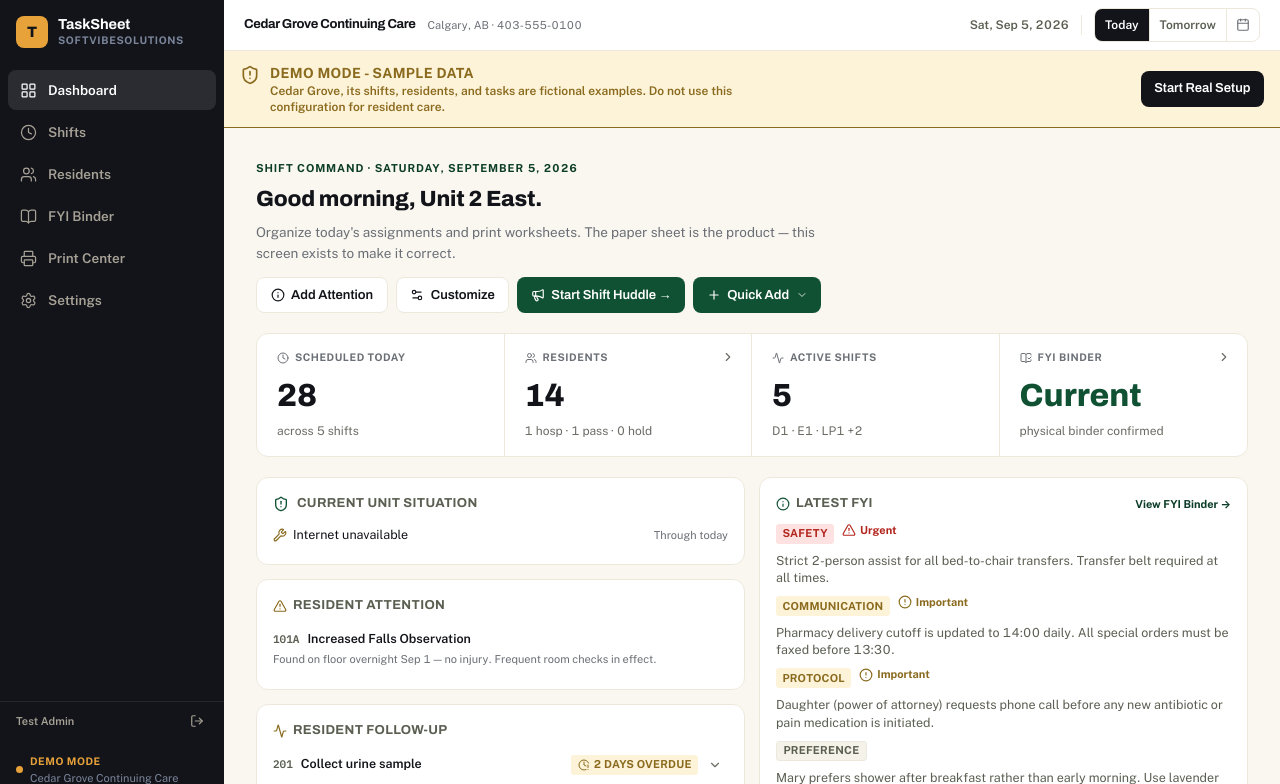
Test case: sidebar parent navigation › returns from a shift workspace to the Shifts list when Shifts is clicked again
Click the button "Shifts".
click(112, 132)  # box [8, 112, 216, 152]
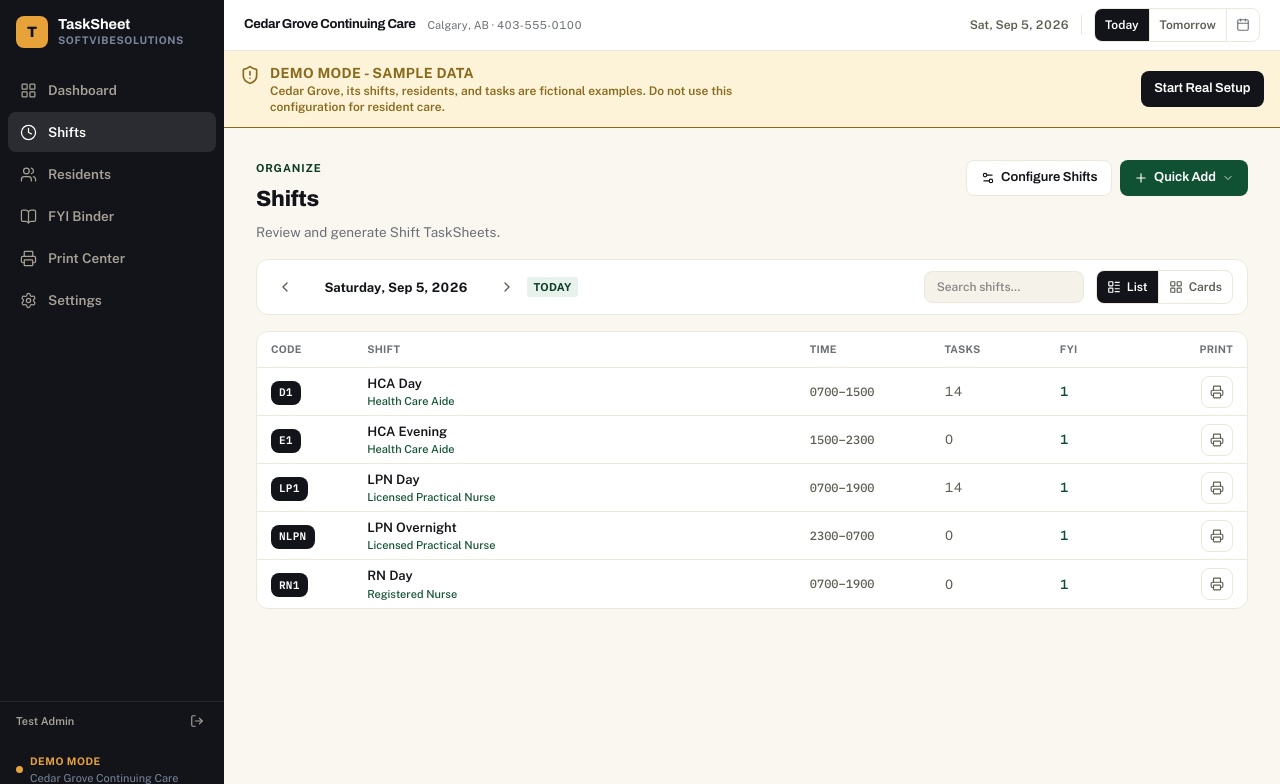
Click the button named "Open D1 shift".
click(752, 392)  # box [257, 368, 1247, 415]
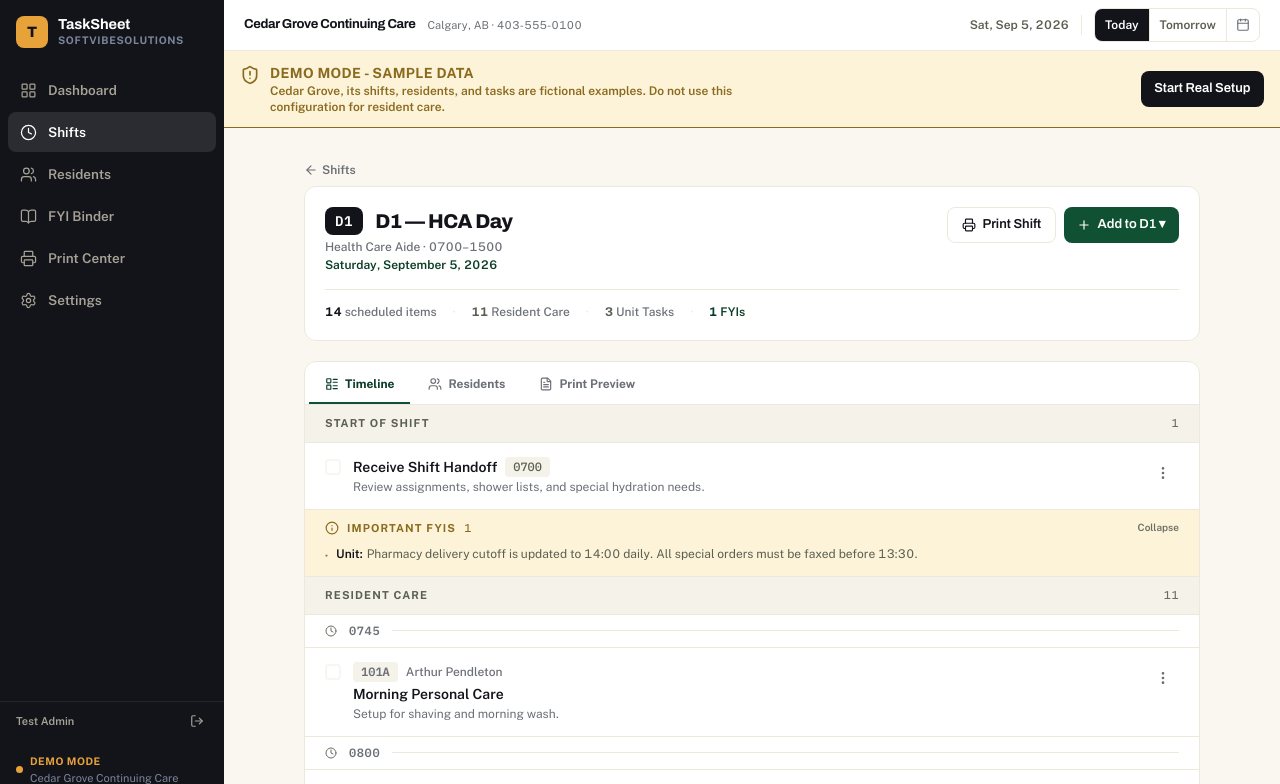
Click the button "Shifts" below "SoftVibeSolutions".
click(112, 132)  # box [8, 112, 216, 152]
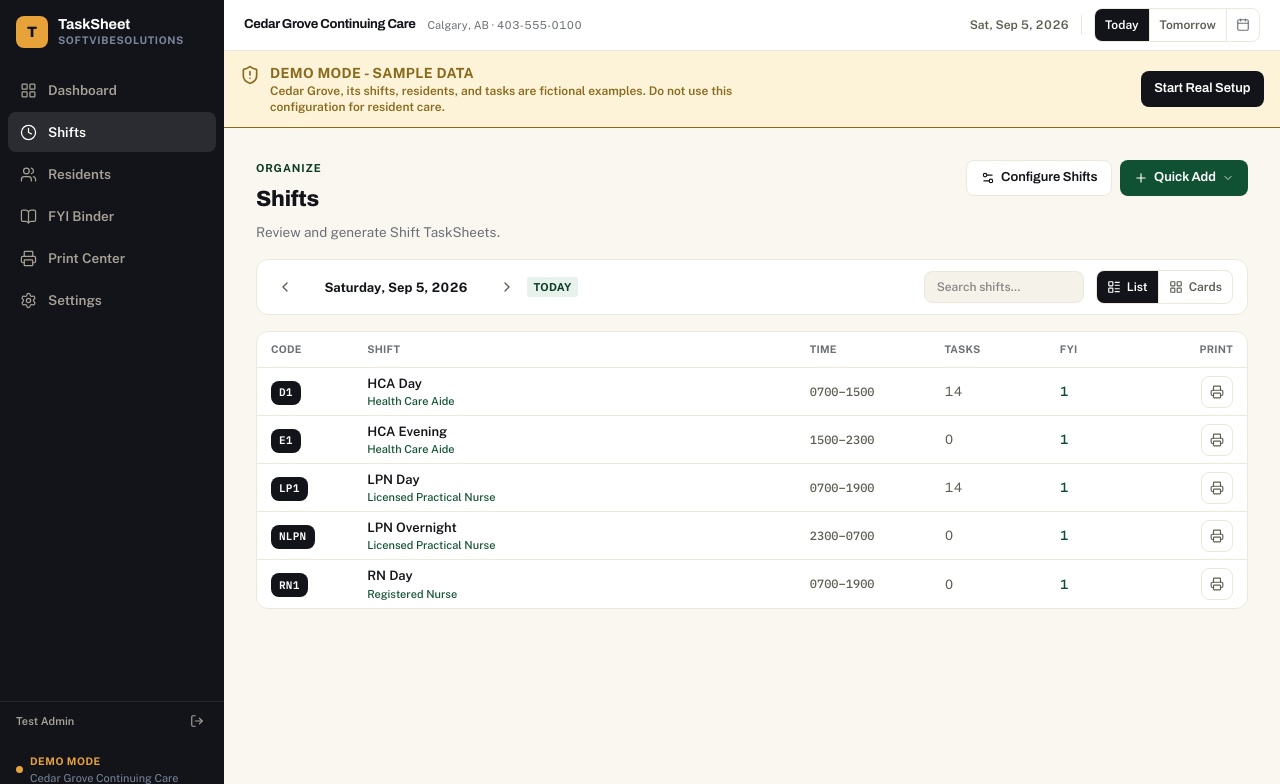
expect the heading "Shifts" is shown: met, box [256, 186, 319, 210]
